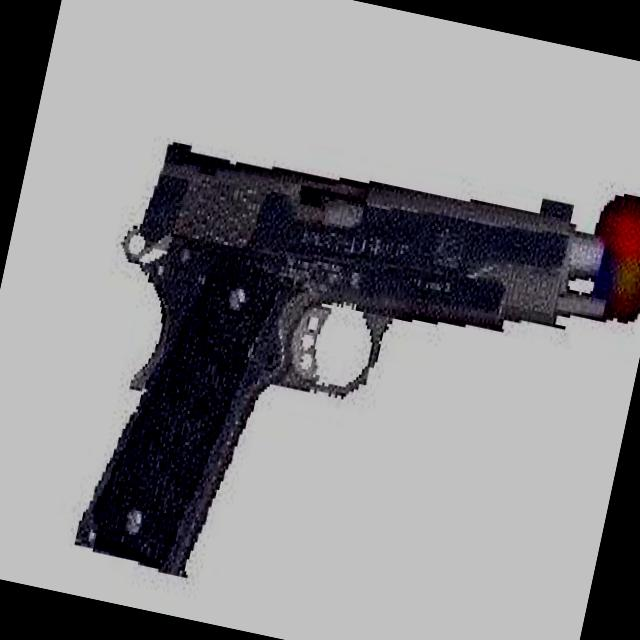handgun: (57, 100, 631, 639)
